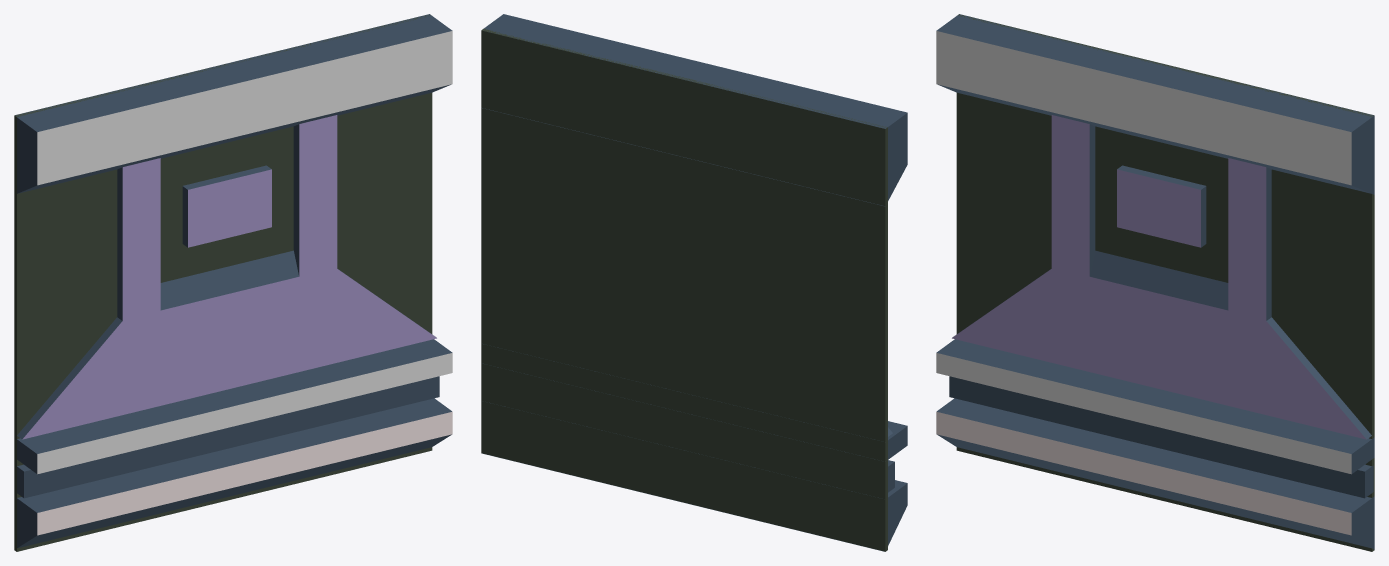
File: Environment_Wall_2.fbx
3 renders of one model, left to right at view 1: azimuth 30°, elevation 25°; view 2: azimuth 150°, elevation 25°; view 3: azimuth 330°, elevation 25°, orthographic. The views are drawn at different scales.
Parts seen in each view (by area): view 1: Wall_2; view 2: Wall_2; view 3: Wall_2.
Part boxes in pixels (x1,y1,x2,y2): Wall_2: (14, 14, 452, 551); Wall_2: (481, 14, 907, 551); Wall_2: (936, 14, 1374, 551).
Bounding box in the file's own units: 400 × 400 × 38.42.
